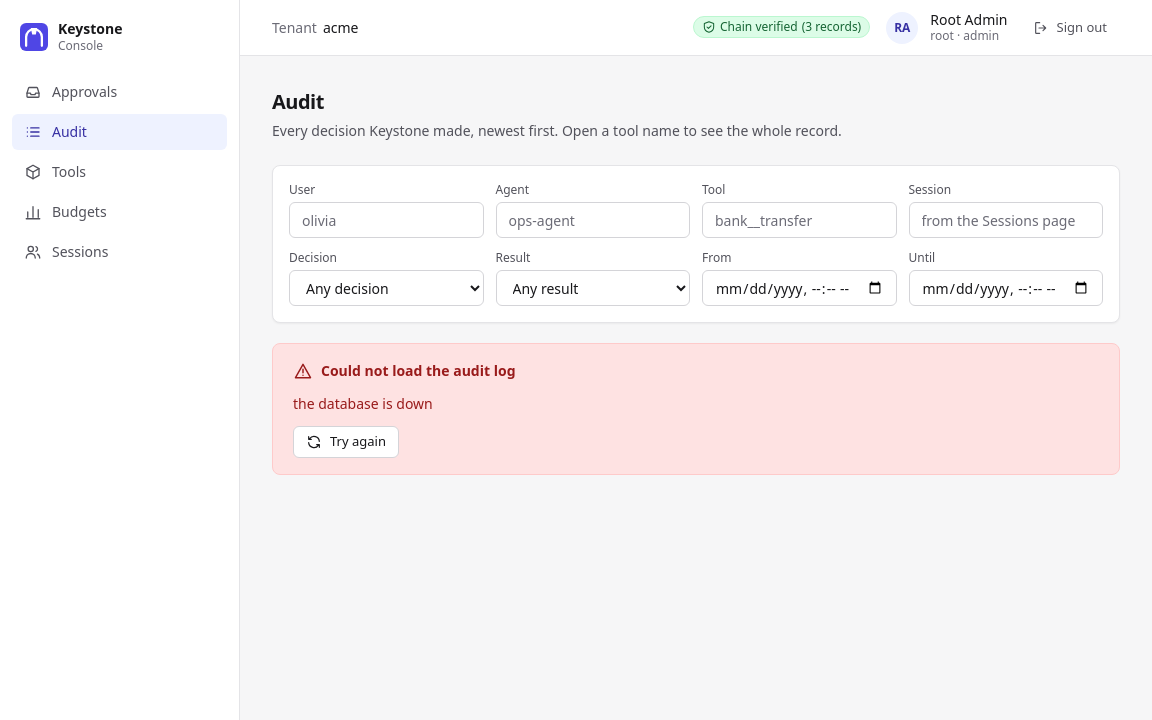
it: shows why the log could not load and reads it again on request
expect the text "Could not load the audit log" is shown: met, box 293,360 -> 516,381
expect the text "the database is down" is shown: met, box 293,393 -> 433,414
What coordinates should you click on to do the following:
click the button "Try again"
I would click on:
 (346, 442)
Its box is 293,426 -> 399,458.
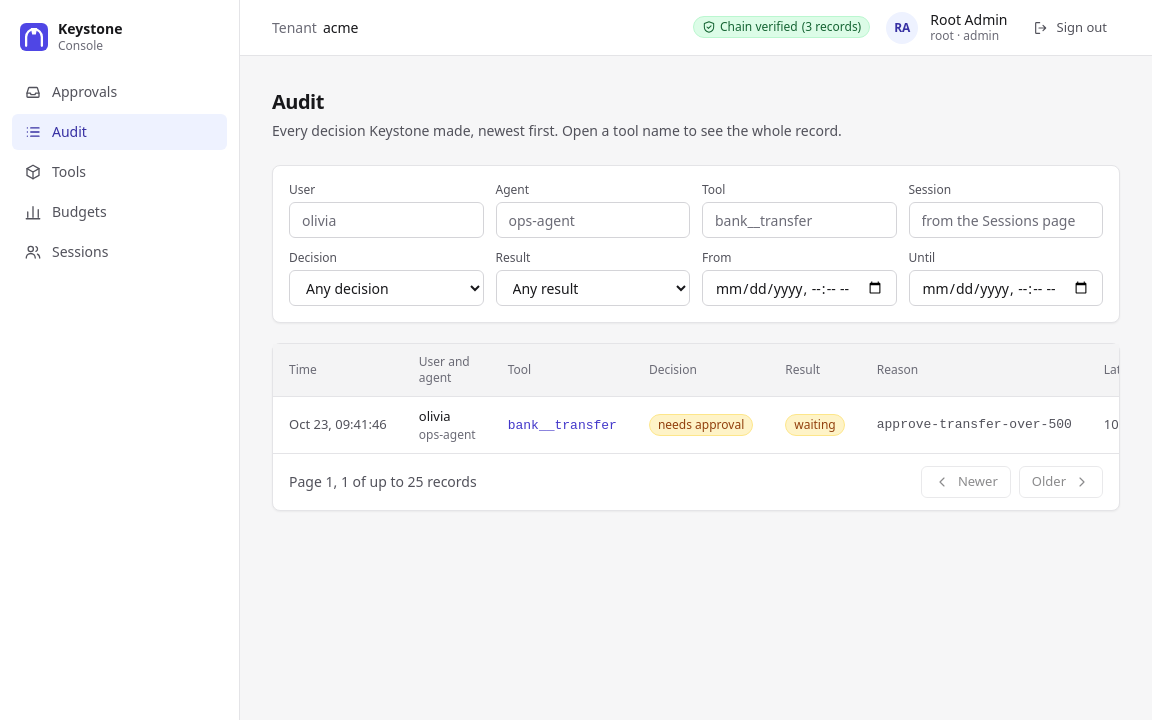
expect the button with aria-label "Open record 30" is shown: met, box 508,416 -> 617,435
